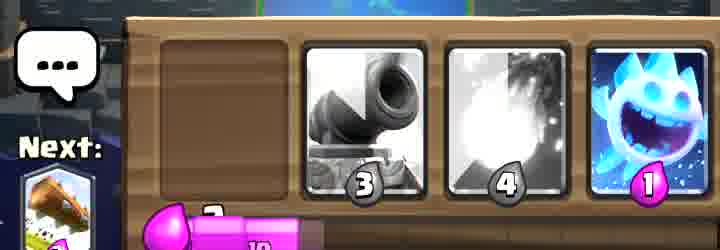ice-spirit: (595, 45, 710, 200)
log: (24, 168, 93, 250)
